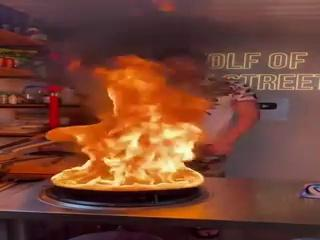Fire: (52, 44, 204, 188)
